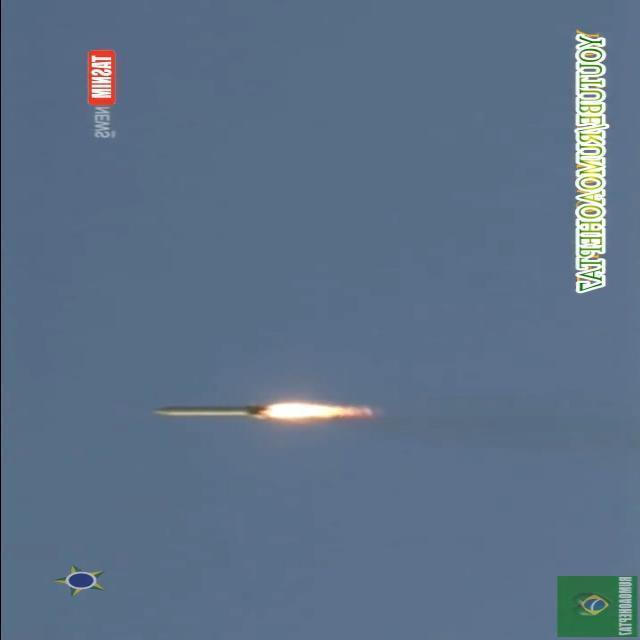missile: (155, 399, 266, 422)
